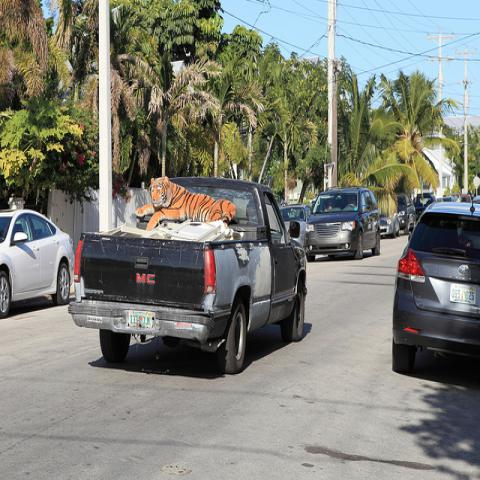car: (392, 188, 480, 375), (1, 205, 74, 319), (305, 187, 381, 263), (278, 205, 312, 259), (396, 193, 417, 233), (413, 193, 436, 221), (380, 210, 400, 237), (436, 193, 462, 202), (460, 195, 472, 202)
truck: (69, 179, 308, 375)
